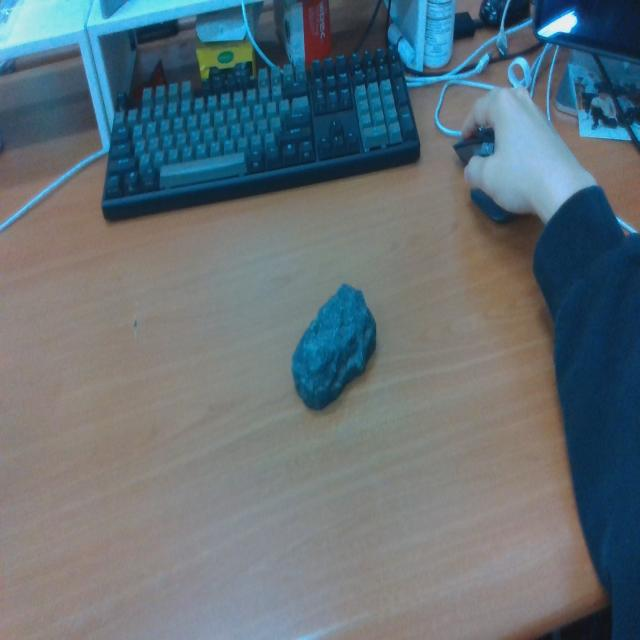stone: (292, 282, 378, 412)
